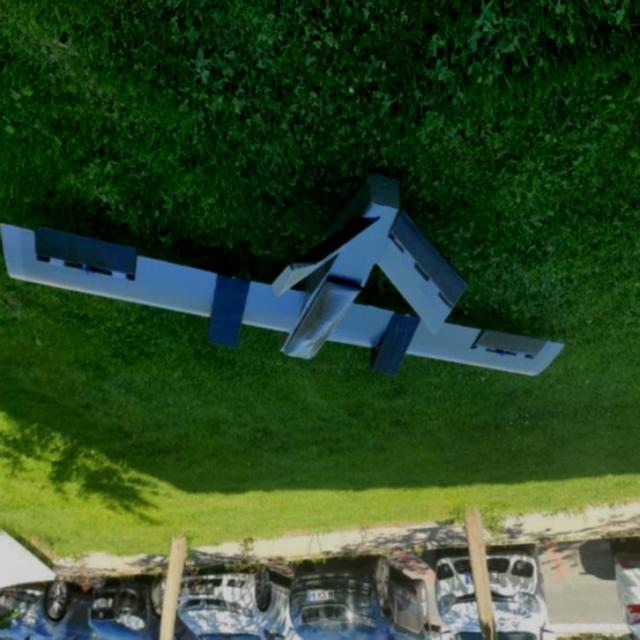plane: (0, 171, 565, 380)
